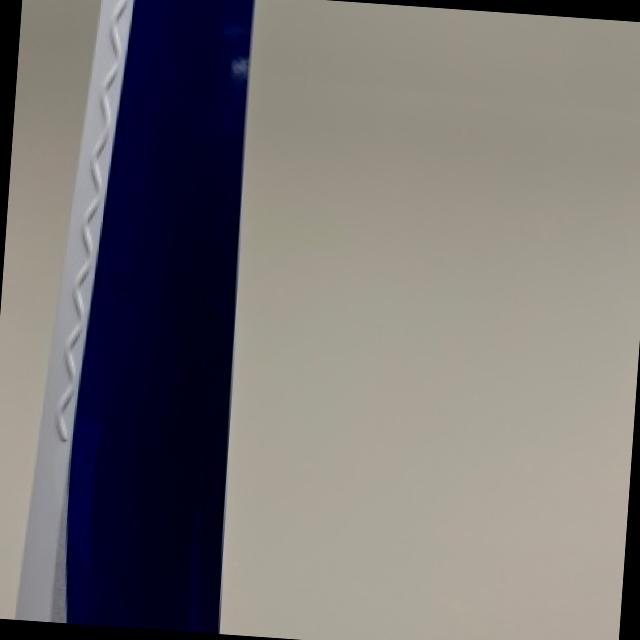healthy: (15, 0, 250, 631)
